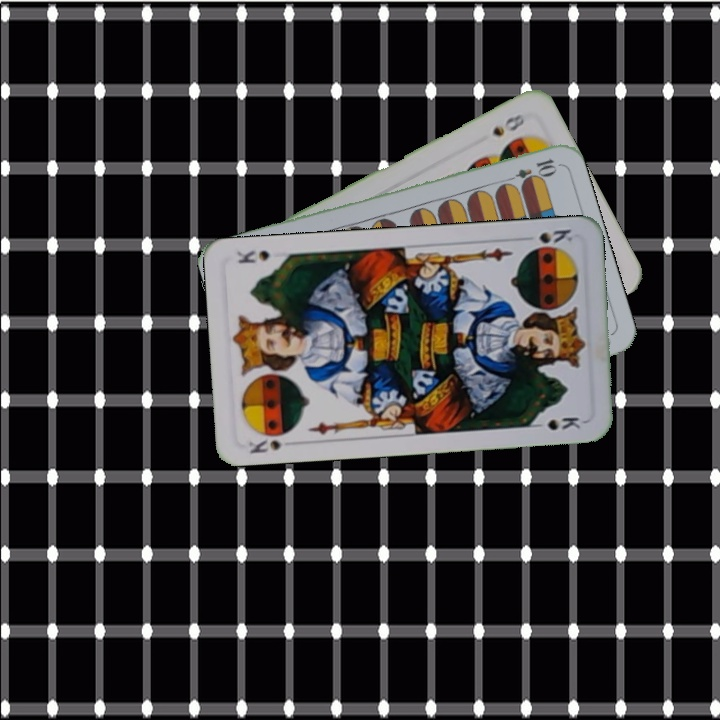E10: (501, 154, 559, 187)
S8: (488, 110, 528, 139)
SK: (245, 435, 299, 457), (535, 225, 575, 246)
